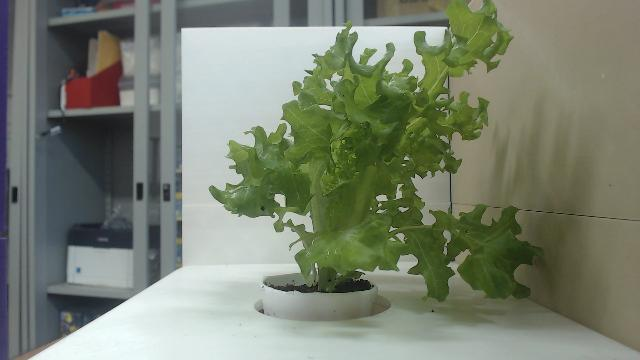Harvest Stage: (210, 0, 544, 304)
